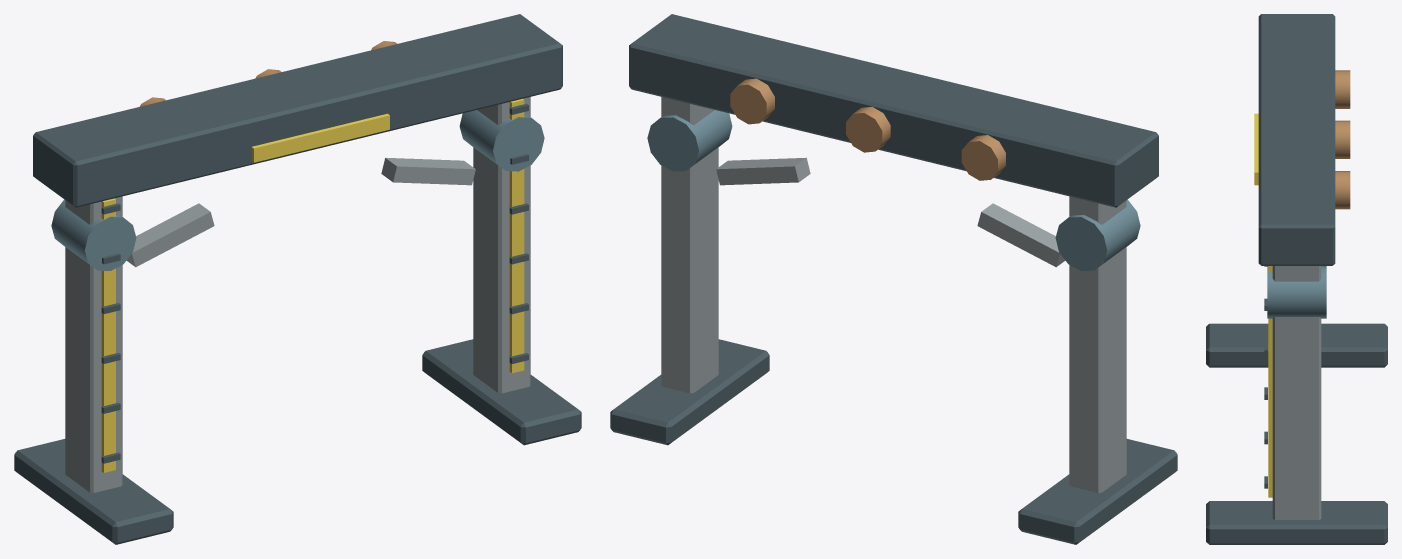
Rendered from cradle_fabrication_frame.glb.
The picture shows the model from 3 angles, left to right: view 1: azimuth 30°, elevation 25°; view 2: azimuth 150°, elevation 25°; view 3: azimuth 270°, elevation 25°; orthographic projection. The views are drawn at different scales.
Parts seen in each view (by area): view 1: deepsteel.014, steel, steel.002, deepsteel, deepsteel.007, bluecase, bluecase.001, hazard.001, hazard, steel.001, hazard.002, steel.003; view 2: deepsteel.014, steel, steel.002, deepsteel, deepsteel.007, bluecase, bluecase.001, steel.001, steel.003, copper.001, copper, copper.002; view 3: deepsteel.014, steel.002, deepsteel.007, deepsteel, bluecase.001, hazard.001, copper, copper.001, copper.002, hazard.002.
Boxes of the visible parts, x1=… form: deepsteel.014: x1=33, y1=14, x2=562, y2=207; steel: x1=65, y1=196, x2=122, y2=492; steel.002: x1=473, y1=97, x2=530, y2=393; deepsteel: x1=14, y1=439, x2=173, y2=544; deepsteel.007: x1=422, y1=339, x2=581, y2=445; bluecase: x1=51, y1=199, x2=136, y2=270; bluecase.001: x1=459, y1=110, x2=544, y2=171; hazard.001: x1=509, y1=98, x2=524, y2=373; hazard: x1=101, y1=198, x2=115, y2=472; steel.001: x1=126, y1=203, x2=214, y2=267; hazard.002: x1=251, y1=113, x2=389, y2=162; steel.003: x1=381, y1=157, x2=475, y2=185; deepsteel.014: x1=629, y1=14, x2=1158, y2=207; steel: x1=1069, y1=196, x2=1126, y2=492; steel.002: x1=661, y1=97, x2=718, y2=393; deepsteel: x1=1018, y1=439, x2=1177, y2=544; deepsteel.007: x1=610, y1=339, x2=769, y2=445; bluecase: x1=1055, y1=199, x2=1140, y2=270; bluecase.001: x1=647, y1=110, x2=732, y2=171; steel.001: x1=977, y1=203, x2=1065, y2=267; steel.003: x1=716, y1=157, x2=810, y2=185; copper.001: x1=846, y1=106, x2=890, y2=152; copper: x1=961, y1=135, x2=1005, y2=180; copper.002: x1=730, y1=78, x2=774, y2=124; deepsteel.014: x1=1258, y1=14, x2=1335, y2=265; steel.002: x1=1272, y1=266, x2=1321, y2=519; deepsteel.007: x1=1206, y1=501, x2=1387, y2=544; deepsteel: x1=1206, y1=323, x2=1387, y2=367; bluecase.001: x1=1267, y1=266, x2=1326, y2=318; hazard.001: x1=1268, y1=266, x2=1272, y2=497; copper: x1=1335, y1=70, x2=1350, y2=108; copper.001: x1=1335, y1=120, x2=1350, y2=158; copper.002: x1=1335, y1=171, x2=1350, y2=209; hazard.002: x1=1254, y1=113, x2=1258, y2=185.
Size of the model in its own units: 7.2 by 5.13 by 2.6.
